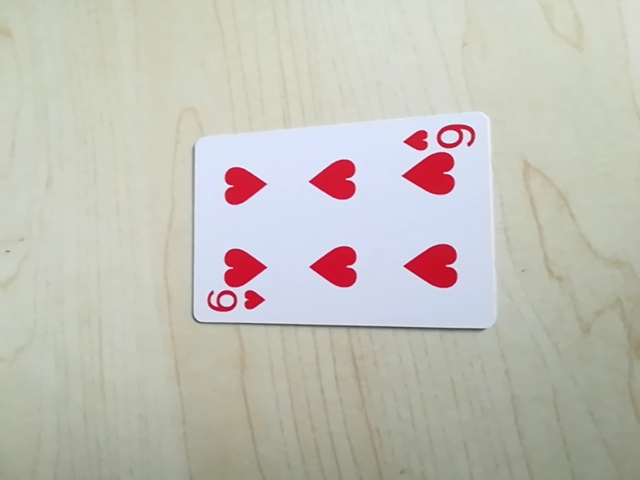hx 6: (399, 119, 479, 153), (203, 288, 266, 322)
